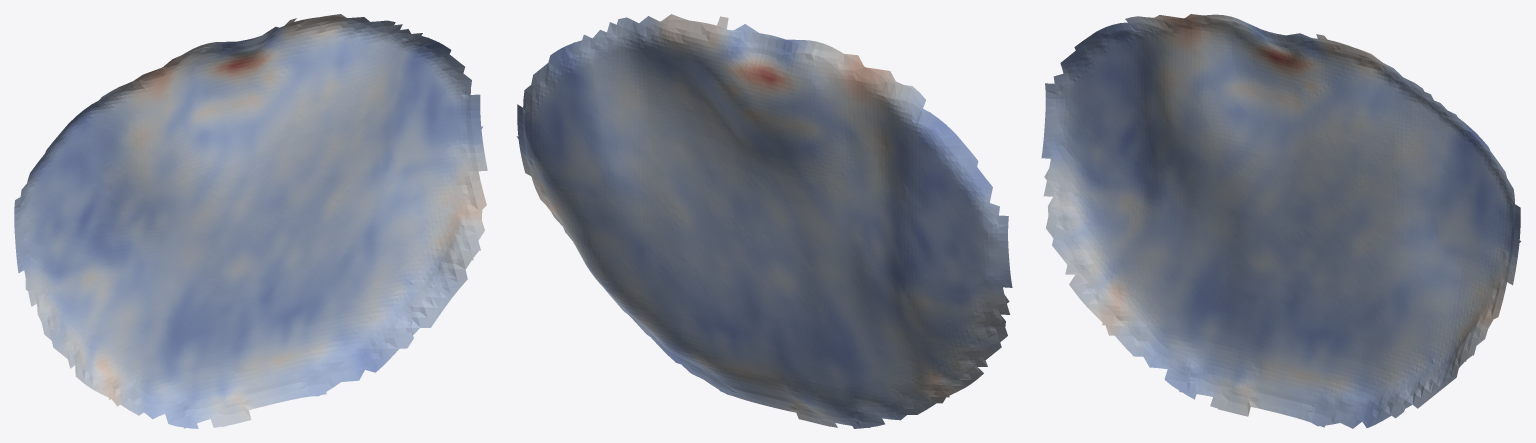
The picture shows the model from 3 angles, left to right: view 1: azimuth 30°, elevation 25°; view 2: azimuth 150°, elevation 25°; view 3: azimuth 330°, elevation 25°; orthographic projection. The views are drawn at different scales.
Parts seen in each view (by area): view 1: world; view 2: world; view 3: world.
Part boxes in pixels (bbox=[...]): world: bbox=[14, 14, 487, 428]; world: bbox=[516, 14, 1012, 428]; world: bbox=[1041, 14, 1520, 428].
Bounding box in the file's own units: 49.71 × 38.32 × 5.78.
